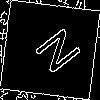N: (25, 25, 83, 83)
